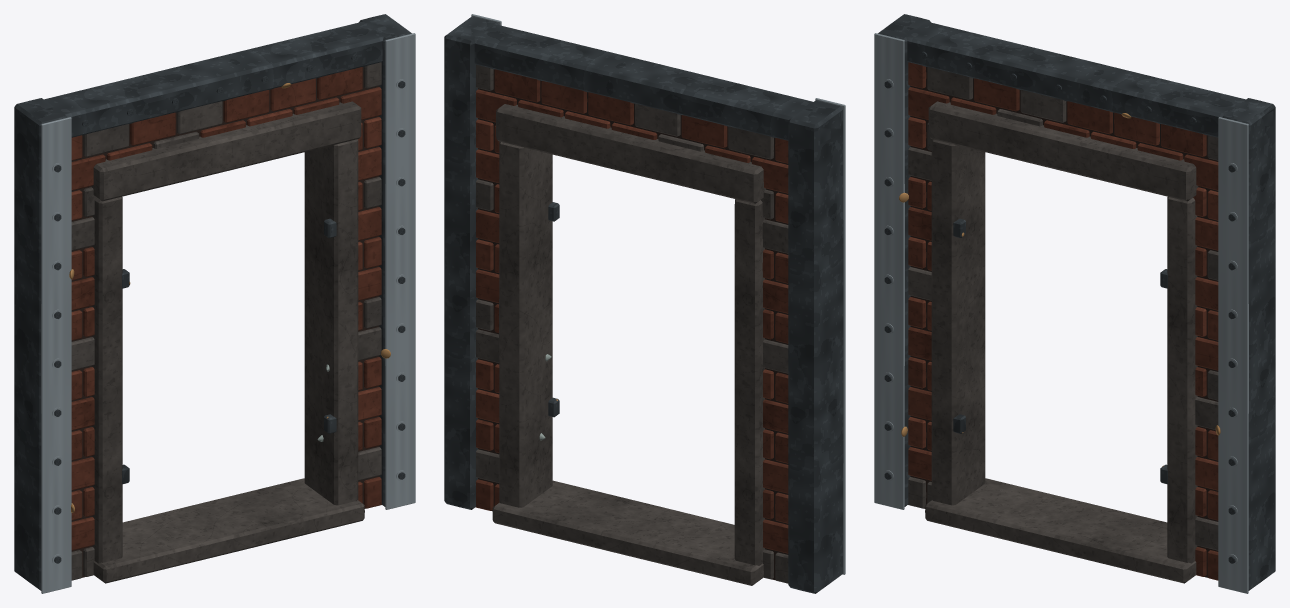
3 views of the same model, side by side, from view 1: azimuth 30°, elevation 25°; view 2: azimuth 150°, elevation 25°; view 3: azimuth 330°, elevation 25° (orthographic).
Visible parts, largest first — view 1: foundry-slag-brick, gunmetal-cast-iron, machined-bearing-steel, fired-foundry-brick, mortar-joint-recess; view 2: foundry-slag-brick, gunmetal-cast-iron, fired-foundry-brick, mortar-joint-recess, machined-bearing-steel; view 3: foundry-slag-brick, gunmetal-cast-iron, machined-bearing-steel, fired-foundry-brick, mortar-joint-recess.
Boxes of the visible parts, box(x1,y1,x2,y2) form: foundry-slag-brick: box(71, 62, 381, 583); gunmetal-cast-iron: box(14, 14, 411, 590); machined-bearing-steel: box(41, 33, 415, 593); fired-foundry-brick: box(71, 67, 381, 550); mortar-joint-recess: box(71, 67, 379, 577); foundry-slag-brick: box(476, 64, 788, 585); gunmetal-cast-iron: box(444, 16, 843, 593); fired-foundry-brick: box(475, 69, 788, 553); mortar-joint-recess: box(478, 69, 788, 580); machined-bearing-steel: box(471, 14, 845, 574); foundry-slag-brick: box(908, 67, 1218, 583); gunmetal-cast-iron: box(878, 14, 1275, 590); machined-bearing-steel: box(874, 33, 1248, 593); fired-foundry-brick: box(908, 62, 1218, 580); mortar-joint-recess: box(910, 67, 1218, 577).
Bounding box in the file's own units: 2 × 2.4 × 0.4.
Materials: 7 (4 with a texture image).
